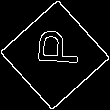P_W: (29, 35, 81, 75)
